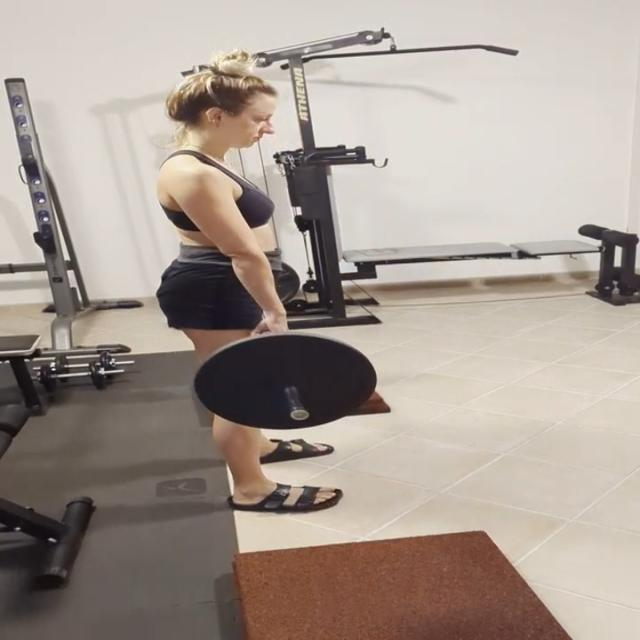barbell: (191, 329, 385, 433)
